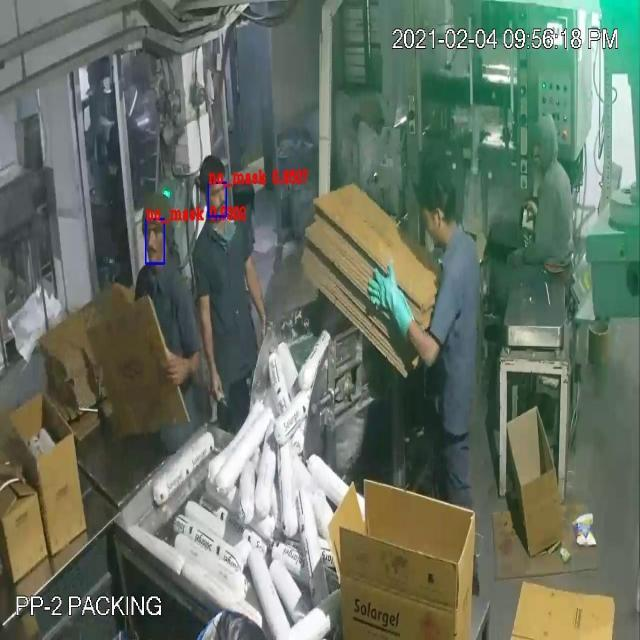No_Gloves: (36, 81, 403, 372)
